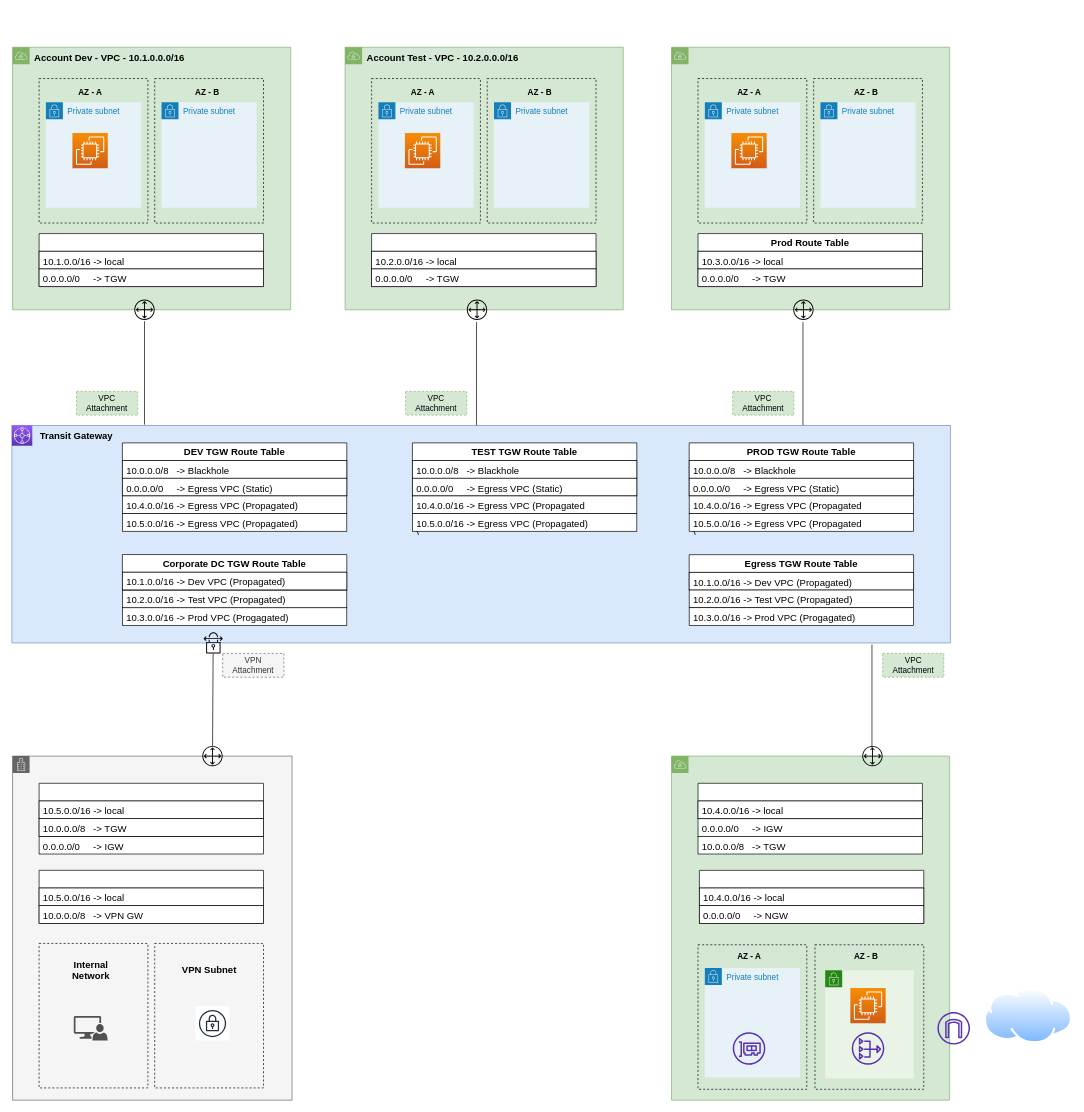
This 1084x1112 diagram has some shape labels left out. Each missing label, with the box of its shape:
Account Egress - VPC - 10.4.0.0.0/16: (671, 755, 950, 1100)
Account Prod - VPC - 10.3.0.0.0/16: (671, 47, 950, 310)
Corporate data center - 10.5.0.0/16: (12, 755, 292, 1100)
Dev Route Table: (38, 233, 264, 287)
Internal Route Table: (38, 870, 264, 923)
Private Subnet Route Table: (699, 870, 924, 923)
Public subnet: (825, 970, 914, 1078)
Public Subnet Route Table: (697, 783, 922, 819)
Test Route Table: (371, 233, 596, 287)
VPN Gateway: (195, 1006, 230, 1041)
VPN Route Table: (38, 783, 264, 836)
